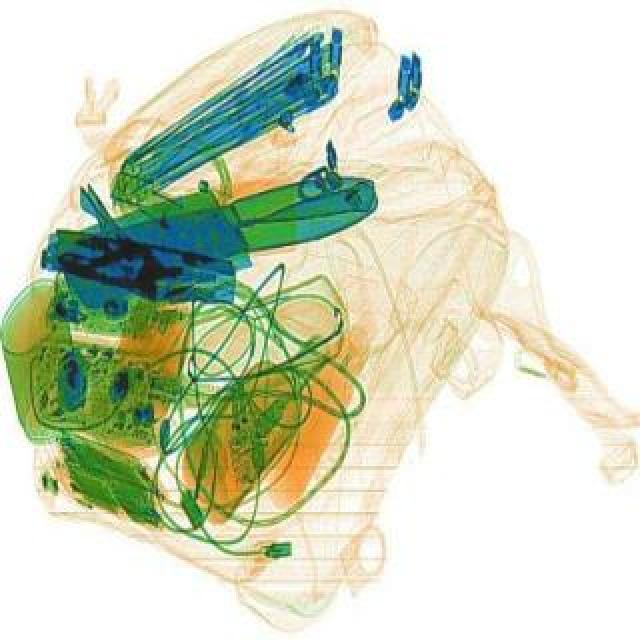knife: (44, 140, 384, 308), (54, 154, 386, 310)
